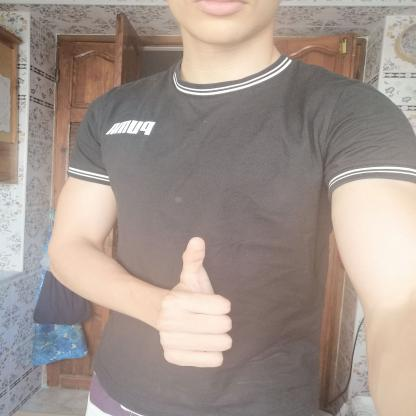ALIF: (136, 222, 255, 376)
